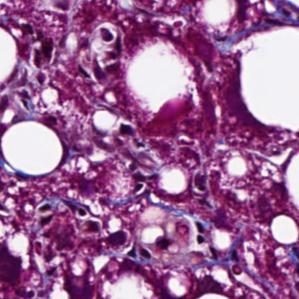inflammation: (15, 12, 62, 66), (99, 215, 142, 260)
